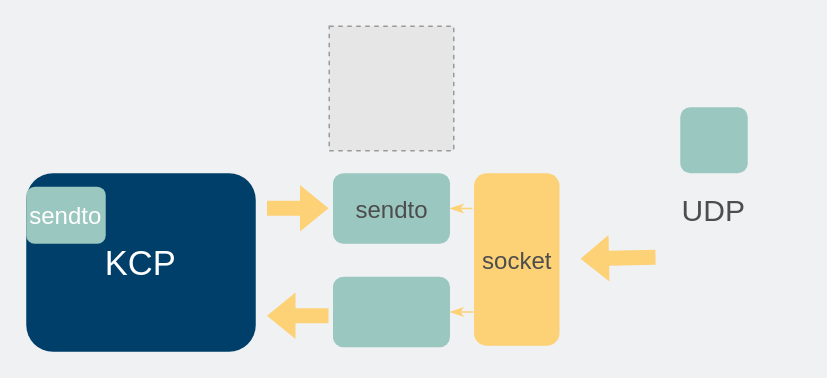
The diagram is 827 pixels wide and 378 high, and some of its shapes have lost their labels. Grey dashed boxes stand in for pictures. Here are the shapes that lost their labels. From the top down, the box of each, then its label:
(680, 106, 747, 172): data
(332, 276, 449, 346): recvfrom
